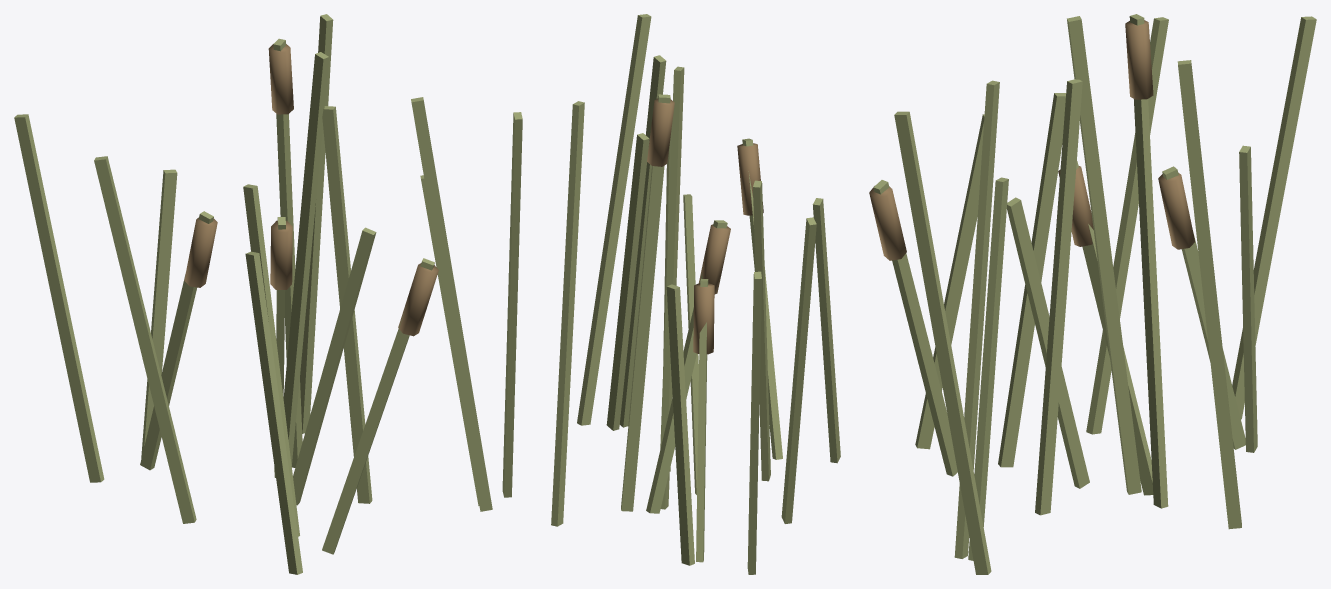
The model's file is v_reeds.glb.
The picture shows the model from 3 angles, left to right: view 1: azimuth 30°, elevation 25°; view 2: azimuth 150°, elevation 25°; view 3: azimuth 270°, elevation 25°; orthographic projection. The views are drawn at different scales.
Visible parts, largest first — view 1: Reeds; view 2: Reeds; view 3: Reeds.
Boxes of the visible parts, x1,y1,x2,y2 form: Reeds: (14,14,522,574); Reeds: (551,14,840,574); Reeds: (869,14,1316,574).
Size of the model in its own units: 1.29 by 1.58 by 1.33.
